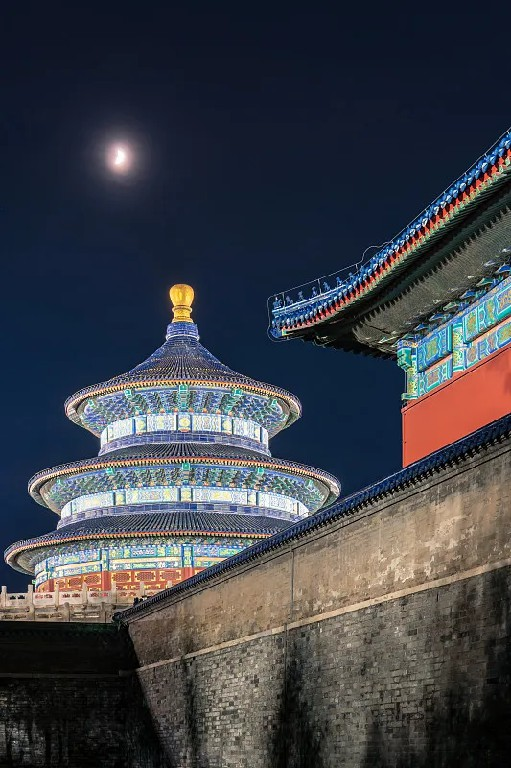Heaven: (1, 281, 342, 604)
